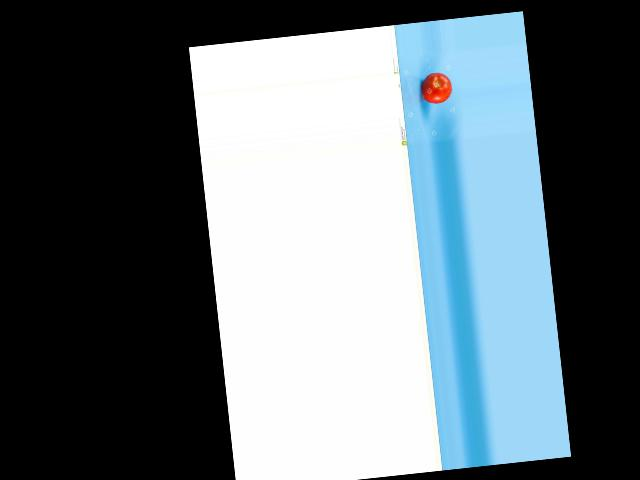tomato: (420, 70, 453, 104)
